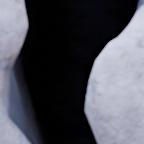broken_brick: (87, 4, 143, 143), (0, 0, 24, 90), (0, 100, 25, 143)
crack: (0, 0, 141, 143)
